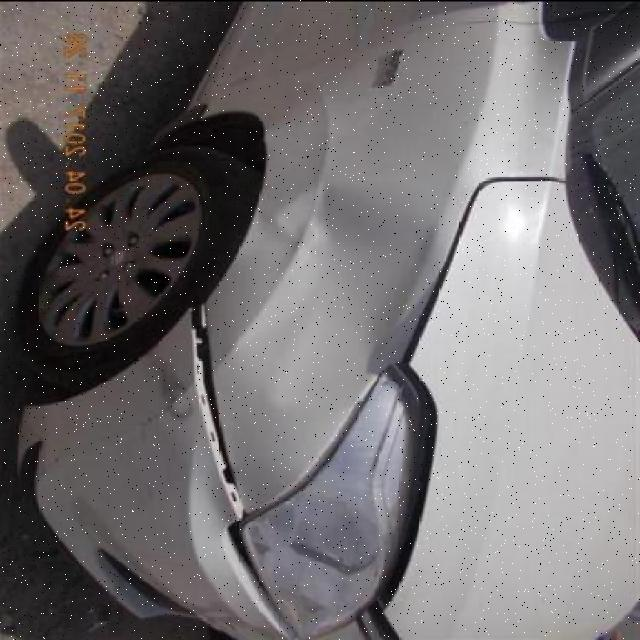damage: (262, 176, 444, 300), (187, 301, 252, 522), (140, 342, 197, 423)
